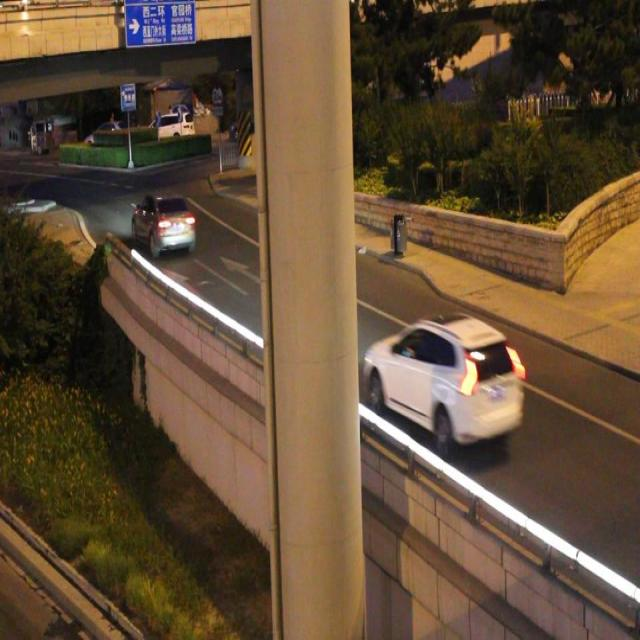car: (364, 310, 524, 450), (131, 190, 195, 256)
